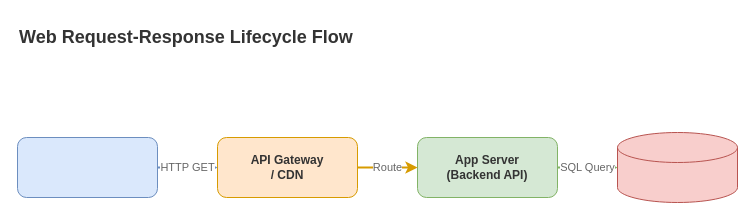
This 755x220 diagram has some shape labels left out. Here are the shapes that lost their labels. From the top down, the centre of each, then its label:
the point at 87,167: Web Browser (Client)
the point at 677,167: Database (PostgreSQL)
